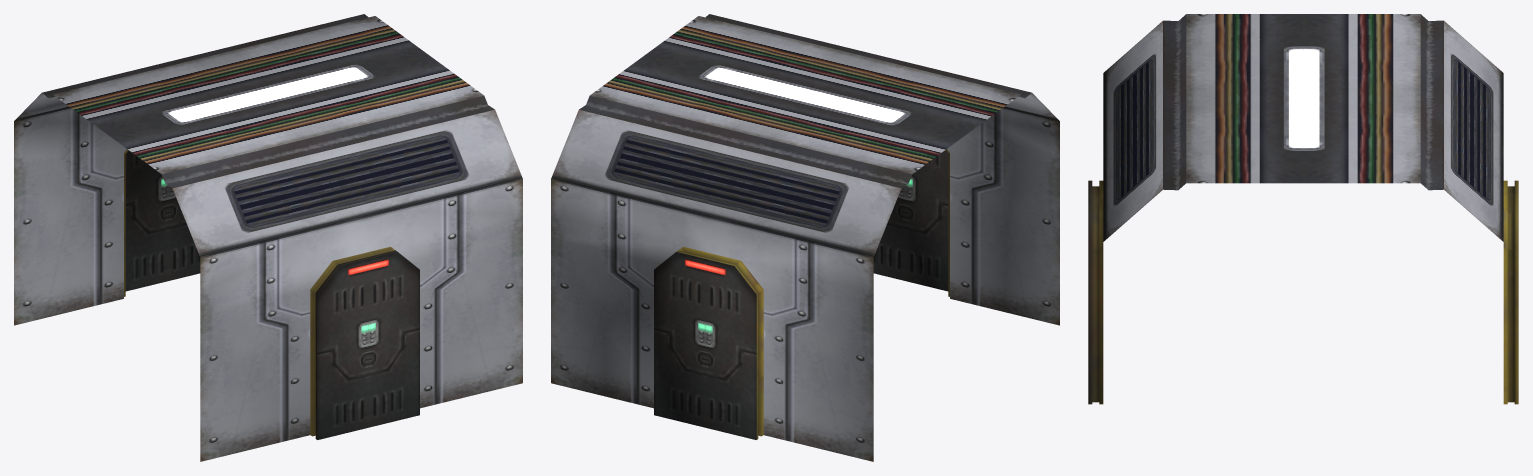
Rendered from MESH_CORREDOR_FAKE_DOOR_WAY.fbx.
The picture shows the model from 3 angles, left to right: view 1: azimuth 30°, elevation 25°; view 2: azimuth 150°, elevation 25°; view 3: azimuth 270°, elevation 25°; orthographic projection. The views are drawn at different scales.
Visible parts, largest first — view 1: MESH_CORREDOR_FAKE_DOOR_WAY; view 2: MESH_CORREDOR_FAKE_DOOR_WAY; view 3: MESH_CORREDOR_FAKE_DOOR_WAY.
Boxes of the visible parts, bbox=[...] form: MESH_CORREDOR_FAKE_DOOR_WAY: bbox=[14, 14, 522, 461]; MESH_CORREDOR_FAKE_DOOR_WAY: bbox=[551, 14, 1059, 461]; MESH_CORREDOR_FAKE_DOOR_WAY: bbox=[1088, 14, 1518, 404].
Size of the model in its own units: 4 by 3.07 by 4.3.
